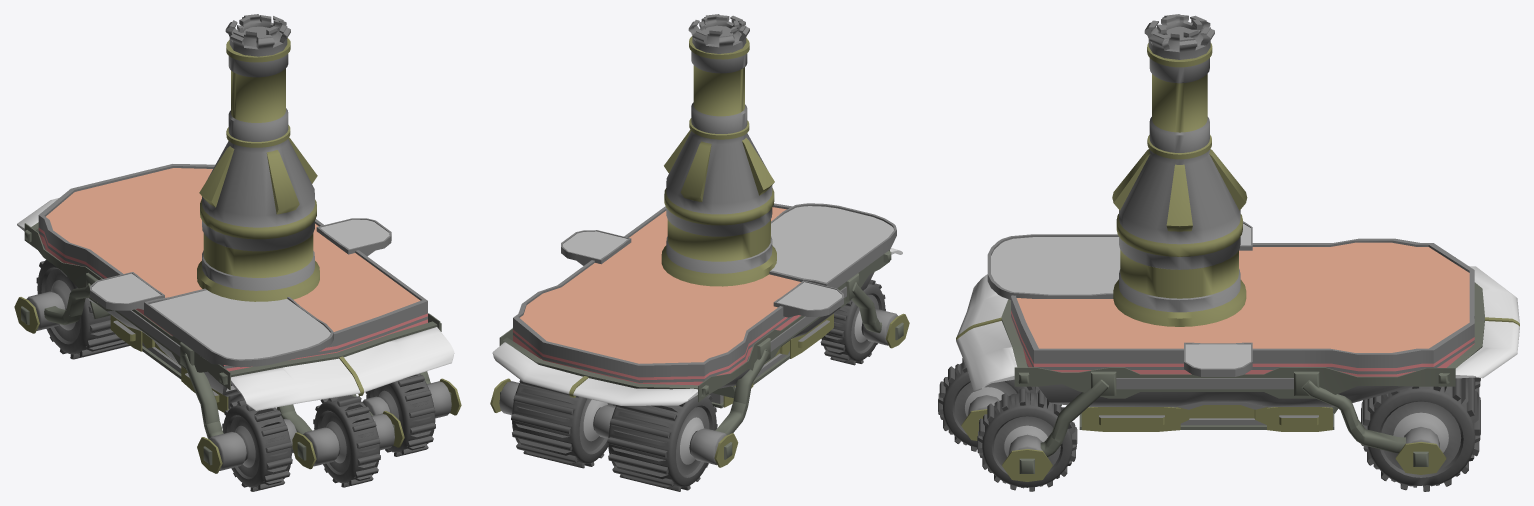
The model's file is WalkingMainBase.fbx.
3 renders of one model, left to right at view 1: azimuth 30°, elevation 25°; view 2: azimuth 150°, elevation 25°; view 3: azimuth 270°, elevation 25°, orthographic. The views are drawn at different scales.
Parts seen in each view (by area): view 1: Cube, Cylinder.005, Cylinder.006, Cylinder.008, Cylinder.003; view 2: Cube, Cylinder.008, Cylinder.007, Cylinder.005; view 3: Cube, Cylinder.007, Cylinder.003, Cylinder.006.
Part boxes in pixels (x1,y1,x2,y2): Cube: (14, 14, 461, 473); Cylinder.005: (222, 399, 292, 491); Cylinder.006: (313, 395, 380, 487); Cylinder.008: (36, 259, 130, 359); Cylinder.003: (365, 373, 435, 456); Cube: (490, 14, 909, 467); Cylinder.008: (607, 394, 717, 491); Cylinder.007: (511, 380, 615, 468); Cylinder.005: (820, 279, 885, 365); Cube: (956, 14, 1519, 481); Cylinder.007: (1361, 377, 1480, 491); Cylinder.003: (977, 388, 1077, 491); Cylinder.006: (938, 358, 1037, 451).
Size of the model in its own units: 280 by 369 by 458.
